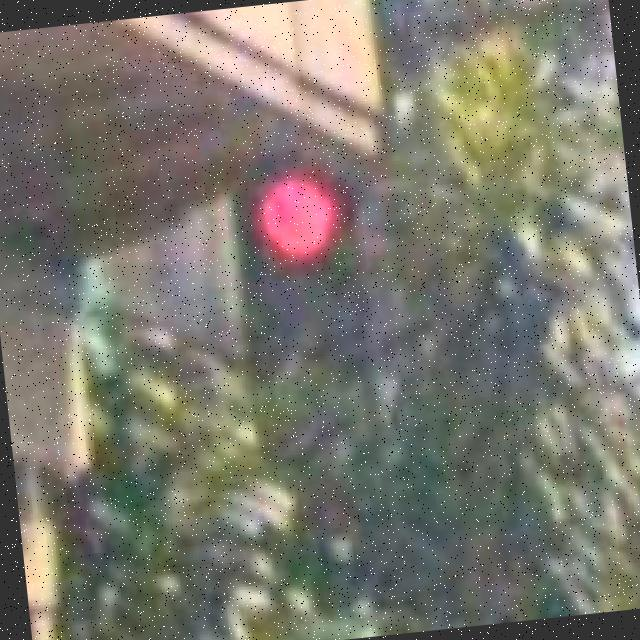Czerwone swiatlo: (230, 165, 376, 372)
